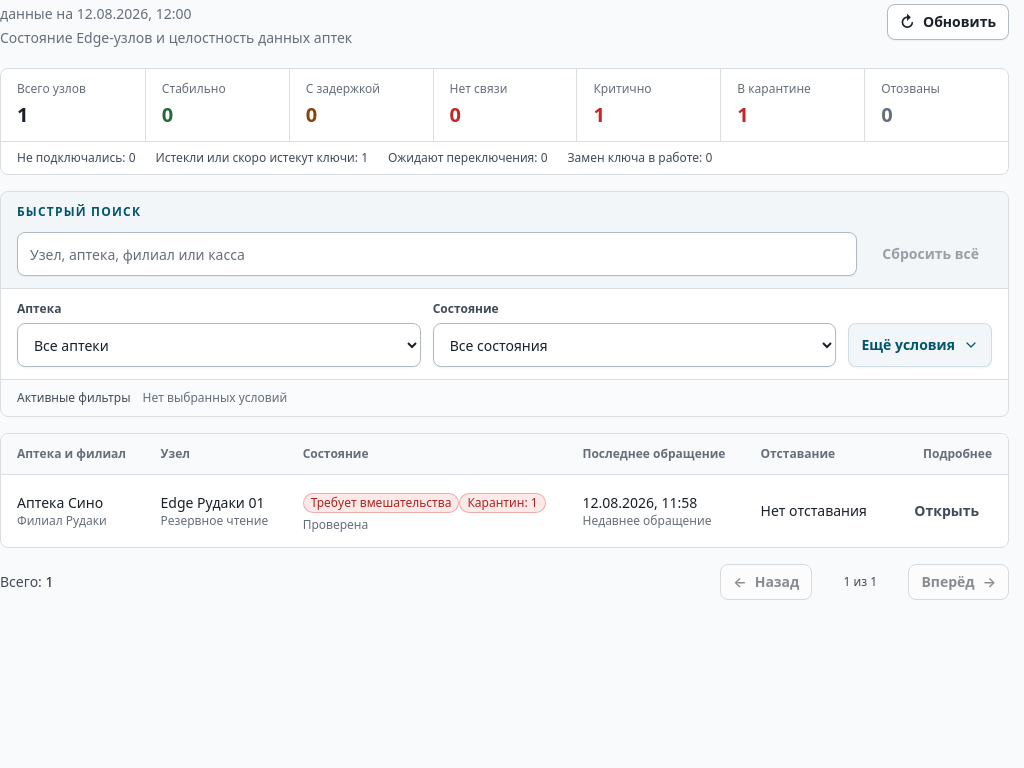
it: SyncCenterPage › shows safe monitoring details without management actions
Check: the text "В карантине" is shown, box [737,80,811,97]
Check: the text "Карантин: 1" is shown, box [459,493,546,513]
Click the button with aria-label "Подробнее об узле Edge Рудаки 01" at [947, 511], box [901,493,992,529]
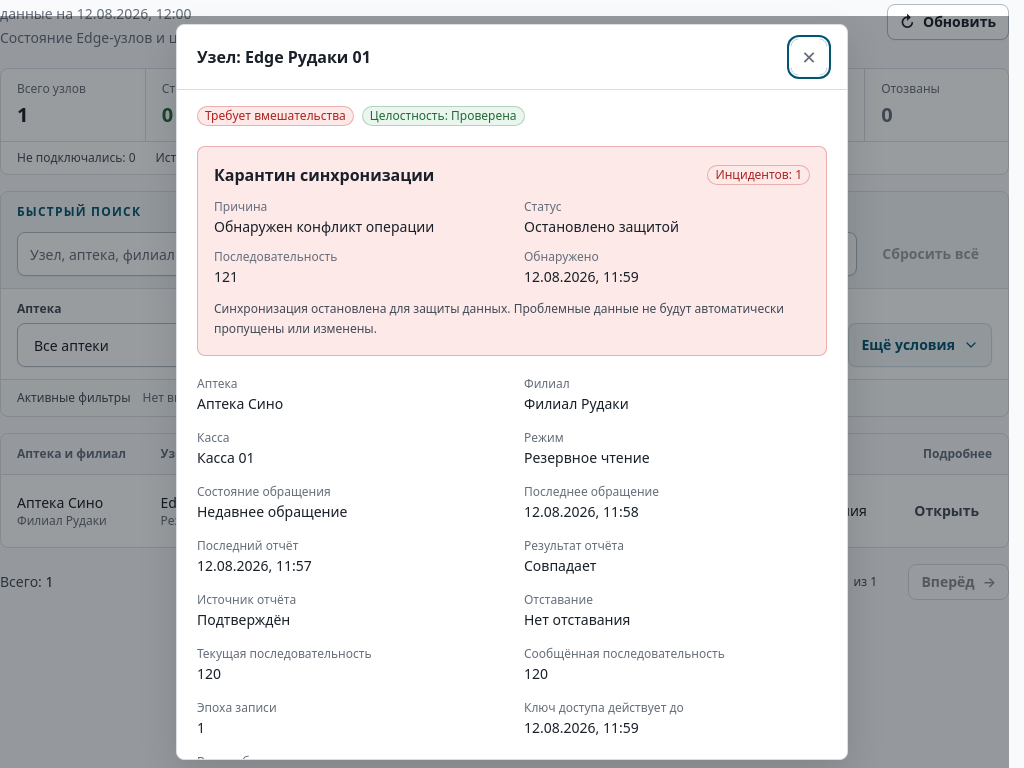
Check: the dialog "Узел: Edge Рудаки 01" is shown
Check: the text "Обнаружен конфликт операции" is shown, box [214,217,434,236]
Check: the text "Остановлено защитой" is shown, box [524,217,679,236]
